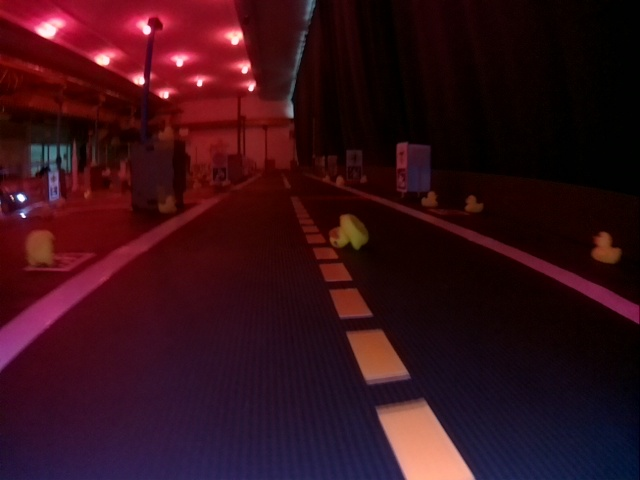Duckie: (329, 216, 364, 248), (26, 231, 54, 266), (592, 233, 621, 261), (160, 197, 176, 214), (467, 196, 482, 211), (421, 196, 437, 206)
Intersection sign: (397, 147, 407, 166)
QR code: (397, 169, 407, 191), (347, 166, 360, 179)
